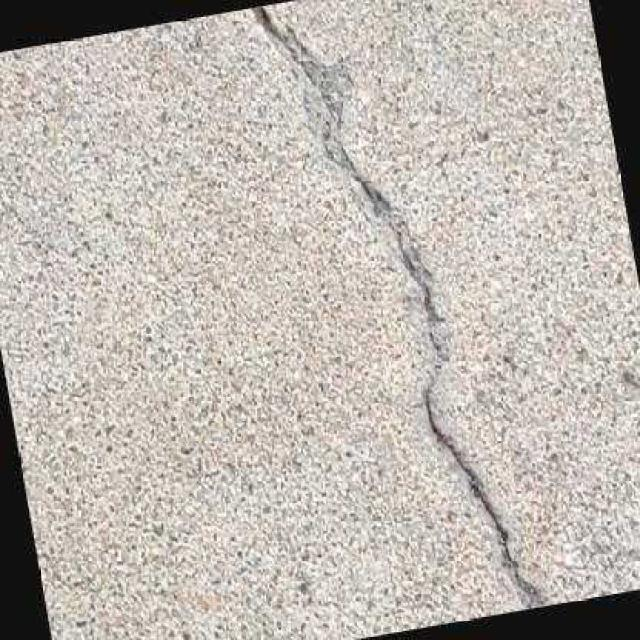D00: (236, 5, 543, 607)
